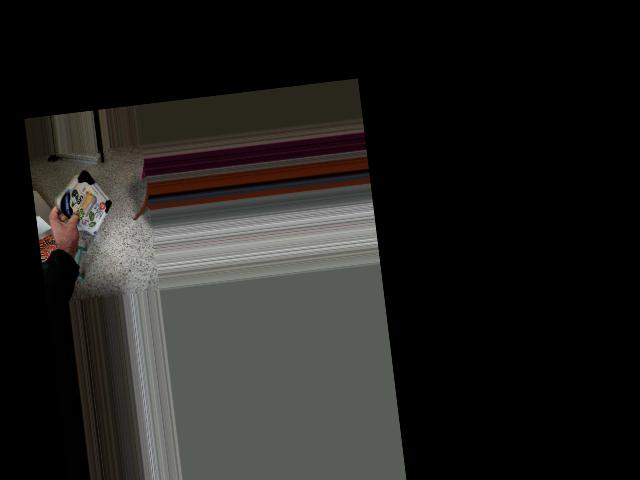cheese: (40, 168, 120, 230)
